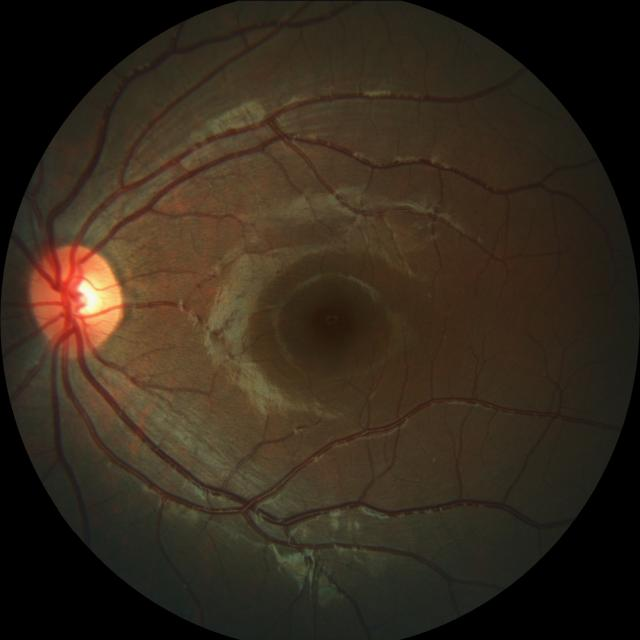OC: (66, 276, 102, 320)
OD: (30, 243, 126, 353)
